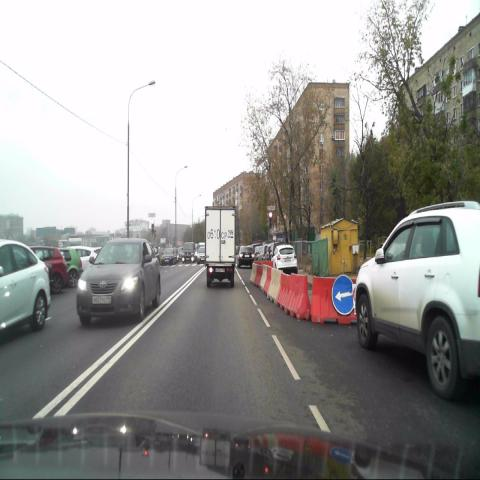4_1_2_2: (331, 274, 354, 314)
